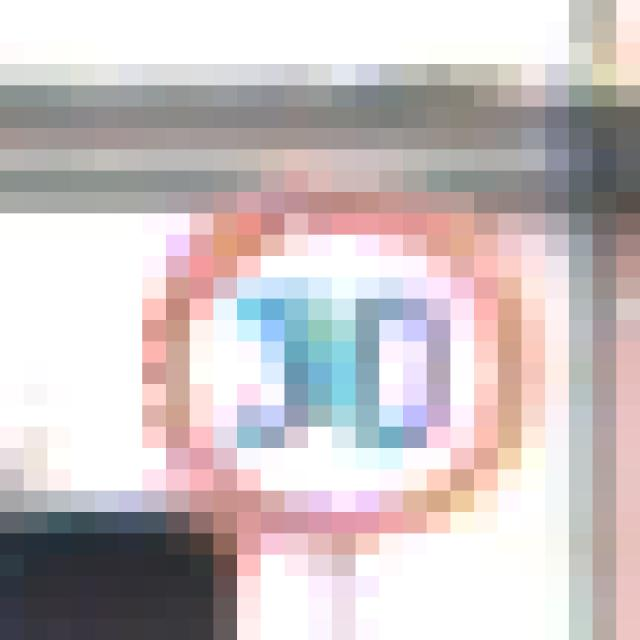Speed Limit -30-: (107, 118, 486, 502)
